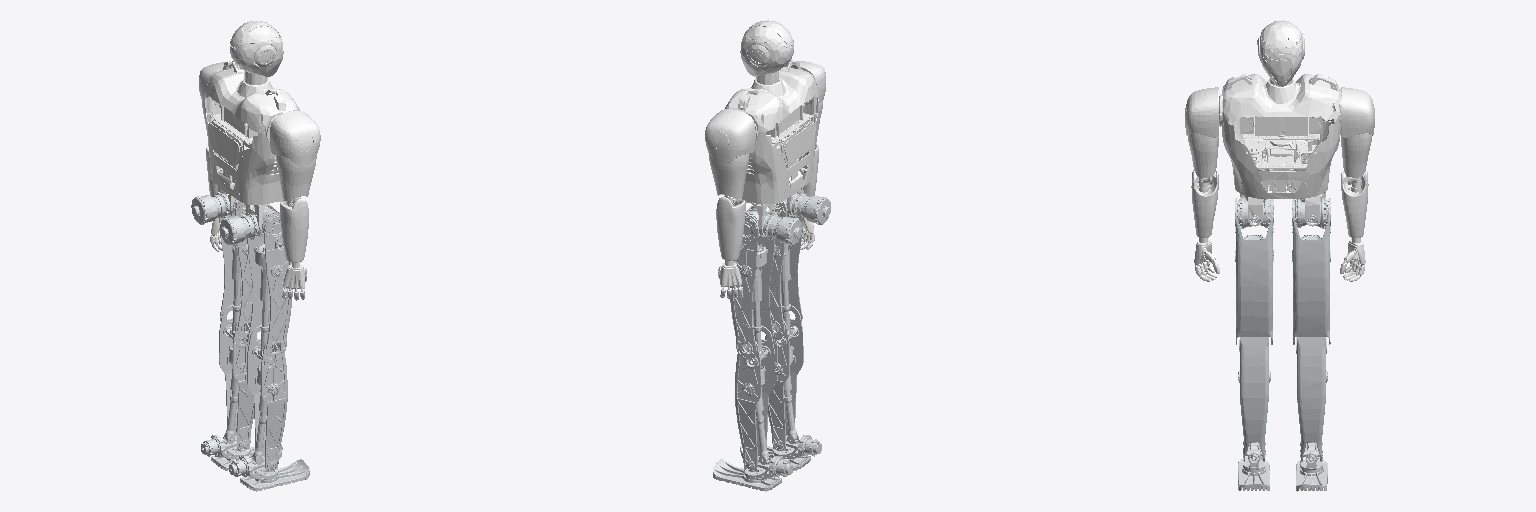
URDF robot description (jump_robot_qhx):
<?xml version="1.0" encoding="utf-8"?>
<!-- This URDF was automatically created by SolidWorks to URDF Exporter! Originally created by Stephen Brawner (brawner@gmail.com) 
     Commit Version: 1.6.0-1-g15f4949  Build Version: 1.6.7594.29634
     For more information, please see http://wiki.ros.org/sw_urdf_exporter -->
<robot
  name="jump_robot_qhx">
  <link name="trunk">
    <inertial>
      <origin
        xyz="-0.002531 -0.0059537 0.089042"
        rpy="0 0 0" />
      <mass
        value="20.9913292790793" />
      <inertia
        ixx="0.124208103347896"
        ixy="-9.59187941607576E-05"
        ixz="0.000364518209294849"
        iyy="0.0514747095206283"
        iyz="-1.571792289308E-05"
        izz="0.126836649722406" />
    </inertial>
    <visual>
      <origin
        xyz="0 0 0"
        rpy="0 0 0" />
      <geometry>
        <mesh
          filename="../meshes/trunk.STL" />
      </geometry>
      <material
        name="">
        <color
          rgba="1 1 1 1" />
      </material>
    </visual>
    <collision>
      <origin rpy="0 0 0" xyz="0. 0. 0."/>
      <geometry>
        <sphere radius="0.25"/>
      </geometry>
    </collision>
  </link>
  <link name="arm_left">
    <inertial>
      <origin
        xyz="0.171298707641061 0.000442727912780294 0.00603781286262239"
        rpy="0 0 0" />
      <mass
        value="1.52221608379121" />
      <inertia
        ixx="0.00234673874300324"
        ixy="-3.97823539265063E-05"
        ixz="9.20796492830591E-05"
        iyy="0.00356004819887361"
        iyz="5.94429533538155E-07"
        izz="0.00422659743271191" />
    </inertial>
    <visual>
      <origin
        xyz="0 0 0"
        rpy="0 0 0" />
      <geometry>
        <mesh
          filename="../meshes/arm_left.STL" />
      </geometry>
      <material
        name="">
        <color
          rgba="1 1 1 1" />
      </material>
    </visual>
    <!--collision>
      <origin
        xyz="0 0 0"
        rpy="0 0 0" />
      <geometry>
        <mesh
          filename="../meshes/arm_left.STL" />
      </geometry>
    </collision-->
  </link>
  <joint
    name="shoulder_left"
    type="revolute">
    <origin
      xyz="0.0022528 0.253 0.16485"
      rpy="-1.5708 1.5671 3.1416" />
    <parent
      link="trunk" />
    <child
      link="arm_left" />
    <axis
      xyz="0 0 1" />
    <limit
      lower="-0.6981"
      upper="3.14"
      effort="280"
      velocity="23.14" />
  </joint>
  <link name="arm_right">
    <inertial>
      <origin
        xyz="0.170556178695416 0.000375210079987011 -0.00633364062334763"
        rpy="0 0 0" />
      <mass
        value="1.5289942221345" />
      <inertia
        ixx="0.00234262083840885"
        ixy="-3.91982024555757E-05"
        ixz="-9.14879736122876E-05"
        iyy="0.00355935686991188"
        iyz="9.72152961586076E-07"
        izz="0.00422289414668557" />
    </inertial>
    <visual>
      <origin
        xyz="0 0 0"
        rpy="0 0 0" />
      <geometry>
        <mesh
          filename="../meshes/arm_right.STL" />
      </geometry>
      <material
        name="">
        <color
          rgba="1 1 1 1" />
      </material>
    </visual>
    <!--collision>
      <origin
        xyz="0 0 0"
        rpy="0 0 0" />
      <geometry>
        <mesh
          filename="../meshes/arm_right.STL" />
      </geometry>
    </collision-->
  </link>
  <joint
    name="shoulder_right"
    type="revolute">
    <origin
      xyz="0.0022528 -0.26199 0.16485"
      rpy="-1.5708 1.5671 3.1416" />
    <parent
      link="trunk" />
    <child
      link="arm_right" />
    <axis
      xyz="0 0 1" />
    <limit
      lower="-0.6981"
      upper="3.14"
      effort="280"
      velocity="23.14" />
  </joint>
  <link name="hip_left">
    <inertial>
      <origin
        xyz="0.000264789340324034 0.0022780534399255 -0.0517419329764954"
        rpy="0 0 0" />
      <mass
        value="2.77226288578825" />
      <inertia
        ixx="0.00230494842187513"
        ixy="-1.09491921692072E-06"
        ixz="-1.89821584403495E-06"
        iyy="0.00278714725530115"
        iyz="1.49357926969216E-05"
        izz="0.00265411614795581" />
    </inertial>
    <visual>
      <origin
        xyz="0 0 0"
        rpy="0 0 0" />
      <geometry>
        <mesh
          filename="../meshes/hip_left.STL" />
      </geometry>
      <material
        name="">
        <color
          rgba="0.898039215686275 0.917647058823529 0.929411764705882 1" />
      </material>
    </visual>
    <!--collision>
      <origin
        xyz="0 0 0"
        rpy="0 0 0" />
      <geometry>
        <mesh
          filename="../meshes/hip_left.STL" />
      </geometry>
    </collision-->
  </link>
  <joint
    name="hip_x_left"
    type="revolute">
    <origin
      xyz="-0.010946 0.103004 -0.223"
      rpy="-2.749 1.565 -2.749" />
    <parent
      link="trunk" />
    <child
      link="hip_left" />
    <axis
      xyz="0 0 1" />
    <limit
      lower="-0.1745"
      upper="0.1745"
      effort="280"
      velocity="23.14" />
  </joint>
  <link name="thigh_left">
    <inertial>
      <origin
        xyz="0.204287897160973 0.0124777472765908 0.000500837368540882"
        rpy="0 0 0" />
      <mass
        value="2.24457303787033" />
      <inertia
        ixx="0.00442080407973017"
        ixy="-0.000245782569422698"
        ixz="4.50972349332155E-05"
        iyy="0.0213102863059659"
        iyz="3.30972534771016E-06"
        izz="0.0200095245878174" />
    </inertial>
    <visual>
      <origin
        xyz="0 0 0"
        rpy="0 0 0" />
      <geometry>
        <mesh
          filename="../meshes/thigh_left.STL" />
      </geometry>
      <material
        name="">
        <color
          rgba="0.898039215686275 0.917647058823529 0.929411764705882 1" />
      </material>
    </visual>
    <!--collision>
      <origin
        xyz="0 0 0"
        rpy="0 0 0" />
      <geometry>
        <mesh
          filename="../meshes/thigh_left.STL" />
      </geometry>
    </collision-->
  </link>
  <joint
    name="hip_y_left"
    type="revolute">
    <origin
      xyz="0 0 0"
      rpy="1.5708 0 0" />
    <parent
      link="hip_left" />
    <child
      link="thigh_left" />
    <axis
      xyz="0 0 1" />
    <limit
      lower="-0.5235"
      upper="1.7453"
      effort="280"
      velocity="23.14" />
  </joint>
  <link name="calf_left">
    <inertial>
      <origin
        xyz="0.181032783526921 0.00565154355776892 -0.000982461833743953"
        rpy="0 0 0" />
      <mass
        value="1.75714584456127" />
      <inertia
        ixx="0.00244024177618532"
        ixy="4.65980519825088E-05"
        ixz="4.3757807711868E-06"
        iyy="0.0176434834993722"
        iyz="6.29874205032996E-07"
        izz="0.0171561337463444" />
    </inertial>
    <visual>
      <origin
        xyz="0 0 0"
        rpy="0 0 0" />
      <geometry>
        <mesh
          filename="../meshes/calf_left.STL" />
      </geometry>
      <material
        name="">
        <color
          rgba="0.898039215686275 0.917647058823529 0.929411764705882 1" />
      </material>
    </visual>
    <!--collision>
      <origin
        xyz="0 0 0"
        rpy="0 0 0" />
      <geometry>
        <mesh
          filename="../meshes/calf_left.STL" />
      </geometry>
    </collision-->
  </link>
  <joint
    name="knee_left"
    type="revolute">
    <origin
      xyz="0.45 0 0"
      rpy="0 0.0022222 0.0011465" />
    <parent
      link="thigh_left" />
    <child
      link="calf_left" />
    <axis
      xyz="0 0 1" />
    <limit
      lower="-2.0943"
      upper="0.1745"
      effort="280"
      velocity="23.14" />
  </joint>
  <link name="ankle_left">
    <inertial>
      <origin
        xyz="-0.000291440779461756 -0.0684593321296307 -0.000437809242085849"
        rpy="0 0 0" />
      <mass
        value="0.426454573230445" />
      <inertia
        ixx="0.000255094327728725"
        ixy="-1.25868931748423E-06"
        ixz="-2.10382440379478E-07"
        iyy="0.000154854283488368"
        iyz="1.04672180226572E-07"
        izz="0.000252474733936312" />
    </inertial>
    <visual>
      <origin
        xyz="0 0 0"
        rpy="0 0 0" />
      <geometry>
        <mesh
          filename="../meshes/ankle_left.STL" />
      </geometry>
      <material
        name="">
        <color
          rgba="0.898039215686275 0.917647058823529 0.929411764705882 1" />
      </material>
    </visual>
    <!--collision>
      <origin
        xyz="0 0 0"
        rpy="0 0 0" />
      <geometry>
        <mesh
          filename="../meshes/ankle_left.STL" />
      </geometry>
    </collision-->
  </link>
  <joint
    name="ankle_y_left"
    type="revolute">
    <origin
      xyz="0.45 0 0"
      rpy="0 0 -2.4552E-05" />
    <parent
      link="calf_left" />
    <child
      link="ankle_left" />
    <axis
      xyz="0 0 1" />
    <limit
      lower="-0.8726"
      upper="0.9948"
      effort="280"
      velocity="23.14" />
  </joint>
  <link name="foot_left">
    <inertial>
      <origin
        xyz="0.0590531832316799 -0.000380314981998697 0.0199411907634456"
        rpy="0 0 0" />
      <mass
        value="1.17881865429034" />
      <inertia
        ixx="0.00491833296516079"
        ixy="-4.29169528436321E-06"
        ixz="4.81264608096593E-05"
        iyy="0.00417461362283326"
        iyz="4.80973862828783E-05"
        izz="0.000947864307528784" />
    </inertial>
    <visual>
      <origin
        xyz="0 0 0"
        rpy="0 0 0" />
      <geometry>
        <mesh
          filename="../meshes/foot_left.STL" />
      </geometry>
      <material
        name="">
        <color
          rgba="0.898039215686275 0.917647058823529 0.929411764705882 1" />
      </material>
    </visual>
    <collision>
      <origin
        xyz="0 0 0"
        rpy="0 0 0" />
      <geometry>
        <!-- <box size="0.1500000 0.0750000 0.01000000" /> -->
        <mesh filename="../meshes/foot_left.STL"/>
      </geometry>
    </collision>
  </link>
  <joint
    name="ankle_x_left"
    type="revolute">
    <origin
      xyz="0 0 0"
      rpy="-1.5708 0.018109 0" />
    <parent
      link="ankle_left" />
    <child
      link="foot_left" />
    <axis
      xyz="0 0 1" />
    <limit
      lower="-0.6981"
      upper="0.5235"
      effort="280"
      velocity="23.14" />
  </joint>
  <link name="hip_right">
    <inertial>
      <origin
        xyz="-3.77763681047583E-06 -0.0022788213769698 -0.0517485653331722"
        rpy="0 0 0" />
      <mass
        value="2.77194420190747" />
      <inertia
        ixx="0.00230482428849934"
        ixy="-6.70310353065572E-08"
        ixz="-3.70150029360013E-08"
        iyy="0.00278711231133955"
        iyz="-1.49675088110476E-05"
        izz="0.00265407493550081" />
    </inertial>
    <visual>
      <origin
        xyz="0 0 0"
        rpy="0 0 0" />
      <geometry>
        <mesh
          filename="../meshes/hip_right.STL" />
      </geometry>
      <material
        name="">
        <color
          rgba="0.898039215686275 0.917647058823529 0.929411764705882 1" />
      </material>
    </visual>
    <!--collision>
      <origin
        xyz="0 0 0"
        rpy="0 0 0" />
      <geometry>
        <mesh
          filename="../meshes/hip_right.STL" />
      </geometry>
    </collision-->
  </link>
  <joint 
    name="hip_x_right"
    type="revolute">
    <origin
      xyz="-0.010946 -0.091996 -0.223"
      rpy="0 1.5708 0" />
    <parent
      link="trunk" />
    <child
      link="hip_right" />
    <axis
      xyz="0 0 1" />
    <limit
      lower="-0.1745"
      upper="0.1745"
      effort="280"
      velocity="23.14" />
  </joint>
  <link name="thigh_right">
    <inertial>
      <origin
        xyz="0.204159056818807 0.0124821544665048 -0.000563980377692605"
        rpy="0 0 0" />
      <mass
        value="2.24418551888605" />
      <inertia
        ixx="0.00442149882840375"
        ixy="-0.000242061145095149"
        ixz="-3.25583828989521E-05"
        iyy="0.0213372609961473"
        iyz="-1.16736435452894E-06"
        izz="0.02003601312423" />
    </inertial>
    <visual>
      <origin
        xyz="0 0 0"
        rpy="0 0 0" />
      <geometry>
        <mesh
          filename="../meshes/thigh_right.STL" />
      </geometry>
      <material
        name="">
        <color
          rgba="0.898039215686275 0.917647058823529 0.929411764705882 1" />
      </material>
    </visual>
    <!--collision>
      <origin
        xyz="0 0 0"
        rpy="0 0 0" />
      <geometry>
        <mesh
          filename="../meshes/thigh_right.STL" />
      </geometry>
    </collision-->
  </link>
  <joint
    name="hip_y_right"
    type="revolute">
    <origin
      xyz="0 0 0"
      rpy="1.5708 0.0053659 0.0022223" />
    <parent
      link="hip_right" />
    <child
      link="thigh_right" />
    <axis
      xyz="0 0 1" />
    <limit
      lower="-0.5235"
      upper="1.7453"
      effort="280"
      velocity="23.14" />
  </joint>
  <link name="calf_right">
    <inertial>
      <origin
        xyz="0.182607647628176 0.00618307415812686 0.000139878399133167"
        rpy="0 0 0" />
      <mass
        value="1.77439209281503" />
      <inertia
        ixx="0.0024374812318937"
        ixy="1.28737896073566E-05"
        ixz="-1.9935042795855E-06"
        iyy="0.0176413056387629"
        iyz="-1.02204152230495E-06"
        izz="0.0171504340007012" />
    </inertial>
    <visual>
      <origin
        xyz="0 0 0"
        rpy="0 0 0" />
      <geometry>
        <mesh
          filename="../meshes/calf_right.STL" />
      </geometry>
      <material
        name="">
        <color
          rgba="0.898039215686275 0.917647058823529 0.929411764705882 1" />
      </material>
    </visual>
    <!--collision>
      <origin
        xyz="0 0 0"
        rpy="0 0 0" />
      <geometry>
        <mesh
          filename="../meshes/calf_right.STL" />
      </geometry>
    </collision-->
  </link>
  <joint
    name="knee_right"
    type="revolute">
    <origin
      xyz="0.45 0 0"
      rpy="0 -0.0022222 -0.0010806" />
    <parent
      link="thigh_right" />
    <child
      link="calf_right" />
    <axis
      xyz="0 0 1" />
    <limit
      lower="-2.0943"
      upper="0.1745"
      effort="280"
      velocity="23.14" />
  </joint>
  <link name="ankle_right">
    <inertial>
      <origin
        xyz="-0.000291429066066343 -0.0684593541528584 0.000437807503005816"
        rpy="0 0 0" />
      <mass
        value="0.426454169497049" />
      <inertia
        ixx="0.000255093687238287"
        ixy="-1.25880429153223E-06"
        ixz="2.10266881314114E-07"
        iyy="0.000154854161809243"
        iyz="-1.04747366225109E-07"
        izz="0.000252474141004131" />
    </inertial>
    <visual>
      <origin
        xyz="0 0 0"
        rpy="0 0 0" />
      <geometry>
        <mesh
          filename="../meshes/ankle_right.STL" />
      </geometry>
      <material
        name="">
        <color
          rgba="0.898039215686275 0.917647058823529 0.929411764705882 1" />
      </material>
    </visual>
    <!--collision>
      <origin
        xyz="0 0 0"
        rpy="0 0 0" />
      <geometry>
        <mesh
          filename="../meshes/ankle_right.STL" />
      </geometry>
    </collision-->
  </link>
  <joint
    name="ankle_y_right"
    type="revolute">
    <origin
      xyz="0.449 0 0"
      rpy="0 0 0.0022026" />
    <parent
      link="calf_right" />
    <child
      link="ankle_right" />
    <axis
      xyz="0 0 1" />
    <limit
      lower="-0.8726"
      upper="0.9948"
      effort="280"
      velocity="23.14" />
  </joint>
  <link name="foot_right">
    <inertial>
      <origin
        xyz="0.0590550454769554 0.000380265171033733 0.0199340670722154"
        rpy="0 0 0" />
      <mass
        value="1.17888308619328" />
      <inertia
        ixx="0.00491831496055339"
        ixy="4.3092452786695E-06"
        ixz="4.80811366493119E-05"
        iyy="0.00417457553264411"
        iyz="-4.8098195438002E-05"
        izz="0.000947871402094289" />
    </inertial>
    <visual>
      <origin
        xyz="0 0 0"
        rpy="0 0 0" />
      <geometry>
        <mesh
          filename="../meshes/foot_right.STL" />
      </geometry>
      <material
        name="">
        <color
          rgba="0.898039215686275 0.917647058823529 0.929411764705882 1" />
      </material>
    </visual>
    <collision>
      <origin
        xyz="0 0 0"
        rpy="0 0 0" />
      <geometry>
        <!-- <box size="0.1500000 0.0750000 0.01000000" /> -->
        <mesh filename="../meshes/foot_right.STL" />
      </geometry>
    </collision>
  </link>
  <joint
    name="ankle_x_right"
    type="revolute">
    <origin
      xyz="0 0 0"
      rpy="-1.5708 -0.022852 0" />
    <parent
      link="ankle_right" />
    <child
      link="foot_right" />
    <axis
      xyz="0 0 1" />
    <limit
      lower="-0.6981"
      upper="0.5235"
      effort="280"
      velocity="23.14" />
  </joint>
</robot>

--- Facts derived from the render (not from the file) ---
Views: 3 orthographic renders of the robot side by side, from view 1: azimuth 30°, elevation 25°; view 2: azimuth 150°, elevation 25°; view 3: azimuth 270°, elevation 25°.
Robot: jump_robot_qhx — 13 links, 12 joints (12 revolute); root link trunk; default pose: every joint at zero.
Visible links, largest first — view 1: trunk, arm_right, thigh_right, calf_right, calf_left, thigh_left, hip_right, foot_right, hip_left, arm_left, foot_left; view 2: trunk, arm_left, calf_left, thigh_left, calf_right, thigh_right, hip_left, foot_left, arm_right, hip_right, foot_right; view 3: trunk, arm_right, arm_left, thigh_left, thigh_right, calf_left, calf_right, foot_right, foot_left, hip_right, hip_left.
Link boxes in pixels (bbox=[...]): trunk: bbox=[205, 21, 299, 235]; arm_right: bbox=[270, 111, 320, 300]; thigh_right: bbox=[248, 214, 292, 358]; calf_right: bbox=[247, 326, 287, 471]; calf_left: bbox=[219, 305, 257, 450]; thigh_left: bbox=[219, 201, 252, 338]; hip_right: bbox=[220, 204, 281, 245]; foot_right: bbox=[240, 456, 309, 491]; hip_left: bbox=[191, 192, 245, 224]; arm_left: bbox=[199, 62, 238, 251]; foot_left: bbox=[211, 435, 282, 470]; trunk: bbox=[725, 20, 818, 236]; arm_left: bbox=[705, 109, 755, 298]; calf_left: bbox=[735, 326, 774, 471]; thigh_left: bbox=[730, 215, 774, 358]; calf_right: bbox=[764, 306, 803, 450]; thigh_right: bbox=[763, 201, 802, 338]; hip_left: bbox=[742, 206, 801, 245]; foot_left: bbox=[713, 456, 781, 491]; arm_right: bbox=[785, 61, 825, 249]; hip_right: bbox=[775, 193, 830, 224]; foot_right: bbox=[740, 435, 810, 470]; trunk: bbox=[1222, 20, 1340, 226]; arm_right: bbox=[1185, 87, 1221, 281]; arm_left: bbox=[1339, 87, 1374, 281]; thigh_left: bbox=[1292, 198, 1330, 344]; thigh_right: bbox=[1235, 198, 1273, 344]; calf_left: bbox=[1296, 337, 1330, 461]; calf_right: bbox=[1238, 337, 1270, 461]; foot_right: bbox=[1238, 442, 1269, 490]; foot_left: bbox=[1296, 442, 1327, 491]; hip_right: bbox=[1235, 194, 1273, 228]; hip_left: bbox=[1292, 197, 1330, 228].
Size in the robot's own frame: 0.3298 by 0.6437 by 1.69 metres.
Meshes: 13 distinct files referenced, 13 mesh visuals loaded (13 binary STL).
